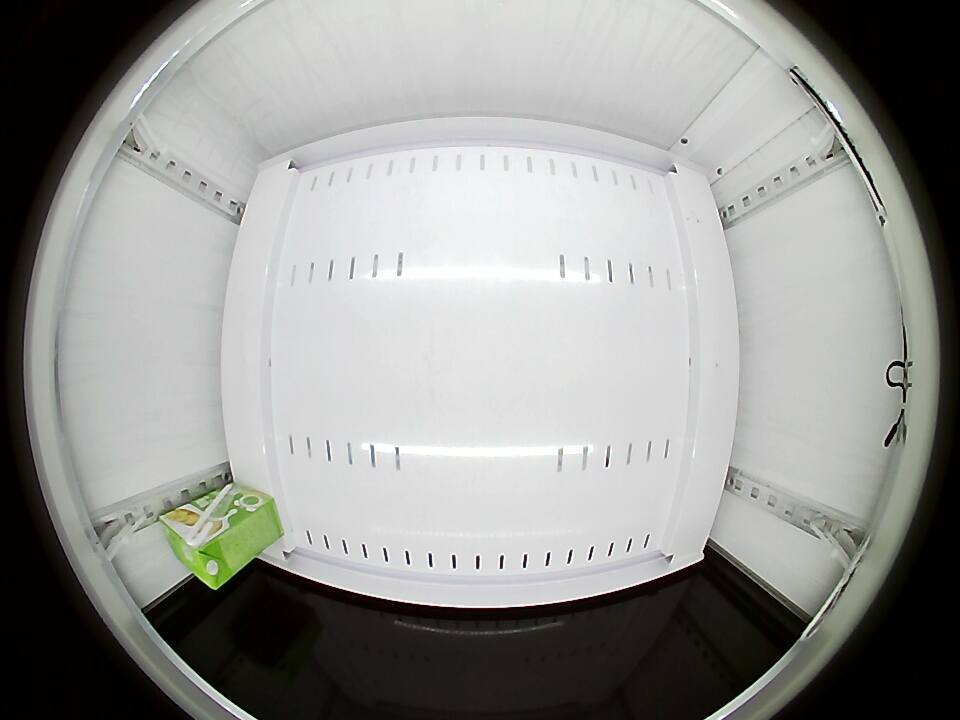mengniuzaocan: (162, 507, 238, 590)
